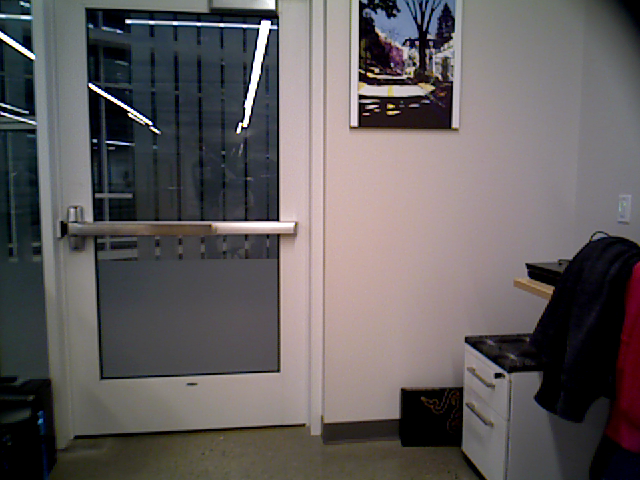painting3: (350, 1, 461, 128)
